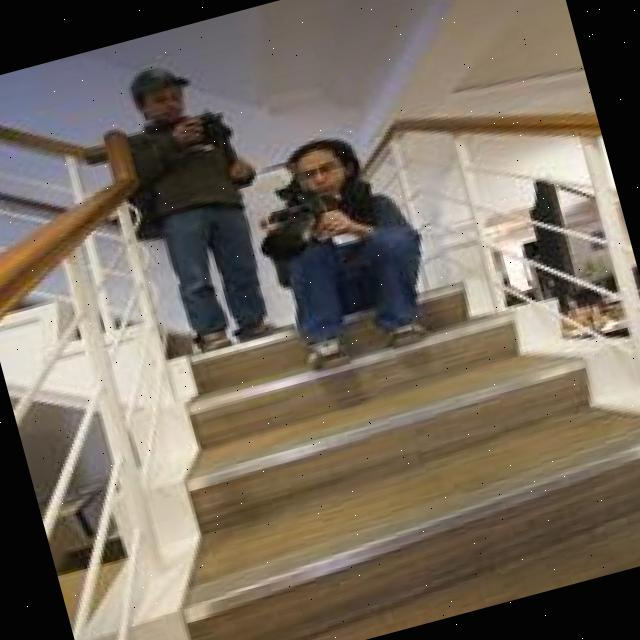stairs: (109, 228, 640, 640)
